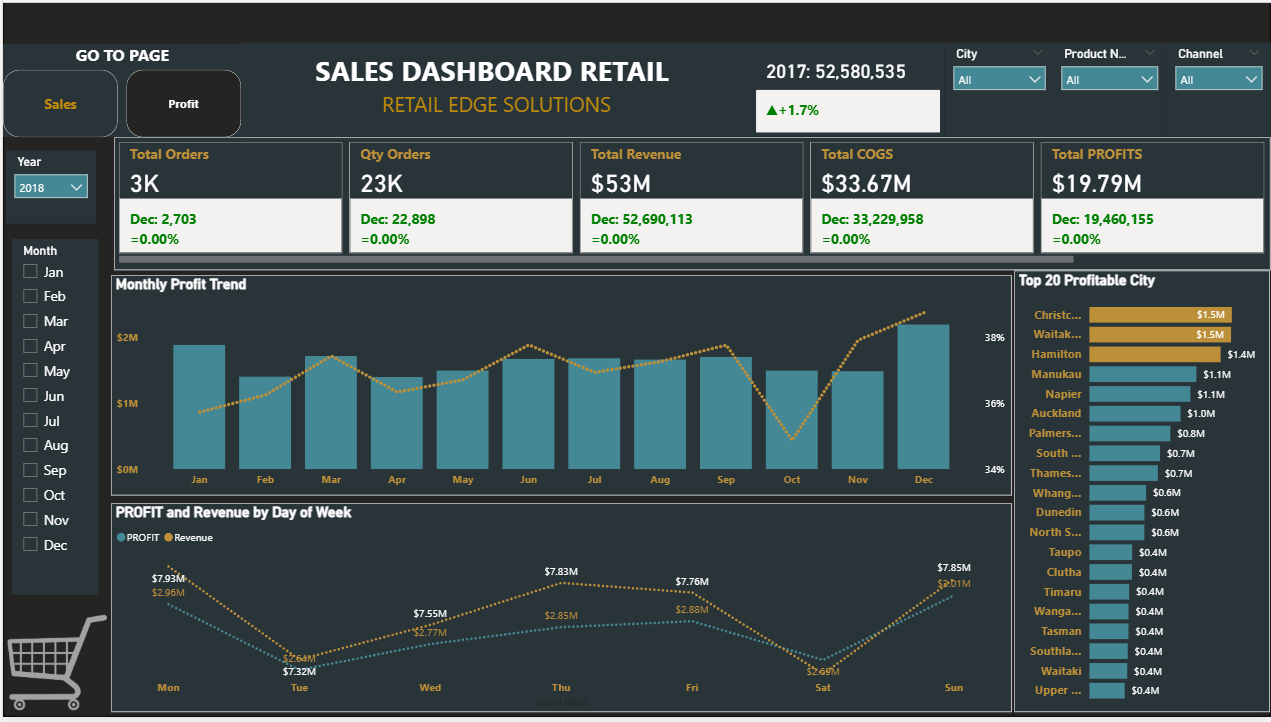

The dashboard page shown, as its layout file describes it:
{"tool":"powerbi","page":{"name":"Profit","canvas":[1480,890],"ordinal":1},"visuals":[{"type":"cardVisual","fields":{"Data":["Calculations.Total Order","Calculations.Qty Order","Calculations.Revenue","Calculations.COGSS","Calculations.PROFITS","Calculations.PROFIT MARGINS"]},"box":[128.8,213.8,1350,155],"z":0},{"type":"lineClusteredColumnComboChart","title":"Monthly Profit Trend","fields":{"Category":["Calender Dim.Month"],"Y":["Calculations.PROFITS"],"Y2":["Calculations.PROFIT MARGINS"]},"box":[126.2,375,1051.2,257.5],"z":1000},{"type":"clusteredBarChart","title":"Top 20 Profitable  City","fields":{"Category":["Regional Dim.City"],"Y":["Calculated Measures.PROFIT"]},"box":[1180,368.8,298.8,515],"z":2000},{"type":"lineChart","fields":{"Category":["Calender Dim.Day of Week"],"Y":["Calculations.PROFITS"],"Y2":["Calculations.Revenue"]},"box":[126.2,640,1051.2,243.8],"z":3000},{"type":"slicer","fields":{"Values":["Calender Dim.Month"]},"box":[10,332.5,101.2,415],"z":4000},{"type":"slicer","fields":{"Values":["Calender Dim.Year"]},"box":[3.8,230,105,85],"z":5000},{"type":"textbox","box":[278.8,103.8,595,110],"z":6000},{"type":"cardVisual","fields":{"Data":["Calculated Measures.Ref_PreviousYear_ Revenue"]},"box":[873.8,103.8,225,110],"z":7000},{"type":"pageNavigator","title":"GO TO PAGE","box":[0,105,278.8,108.8],"z":8000},{"type":"slicer","fields":{"Values":["Regional Dim.City"]},"box":[1098.8,103.8,127.5,110],"z":9000},{"type":"slicer","fields":{"Values":["Product Dim.Product Name"]},"box":[1226.2,103.8,132.5,110],"z":10000},{"type":"slicer","fields":{"Values":["Fact Table.Channel"]},"box":[1358.8,103.8,121.2,110],"z":11000},{"type":"image","box":[0,762.5,126.2,127.5],"z":12000}]}

Visuals, with their boxes on the page's 1480x890 design canvas (x1, y1, x2, y2). These are canvas units, not pixel positions in the 1271x722 screenshot, which may show the page scaled, cropped or inside an application window:
cardVisual - Calculations.Total Order x Calculations.Qty Order: 129 214 1479 369
"Monthly Profit Trend" lineClusteredColumnComboChart: 126 375 1177 632
"Top 20 Profitable  City" clusteredBarChart: 1180 369 1479 884
lineChart - Calender Dim.Day of Week x Calculations.PROFITS: 126 640 1177 884
slicer - Calender Dim.Month: 10 332 111 748
slicer - Calender Dim.Year: 4 230 109 315
textbox: 279 104 874 214
cardVisual - Calculated Measures.Ref_PreviousYear_ Revenue: 874 104 1099 214
"GO TO PAGE" pageNavigator: 0 105 279 214
slicer - Regional Dim.City: 1099 104 1226 214
slicer - Product Dim.Product Name: 1226 104 1359 214
slicer - Fact Table.Channel: 1359 104 1480 214
image: 0 762 126 890
